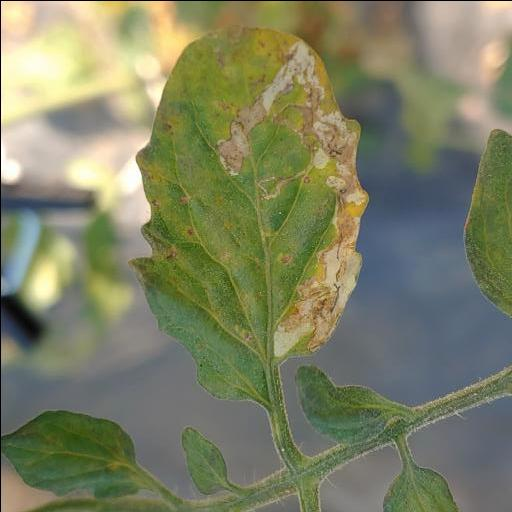Leaf Miner: (126, 25, 368, 408)
